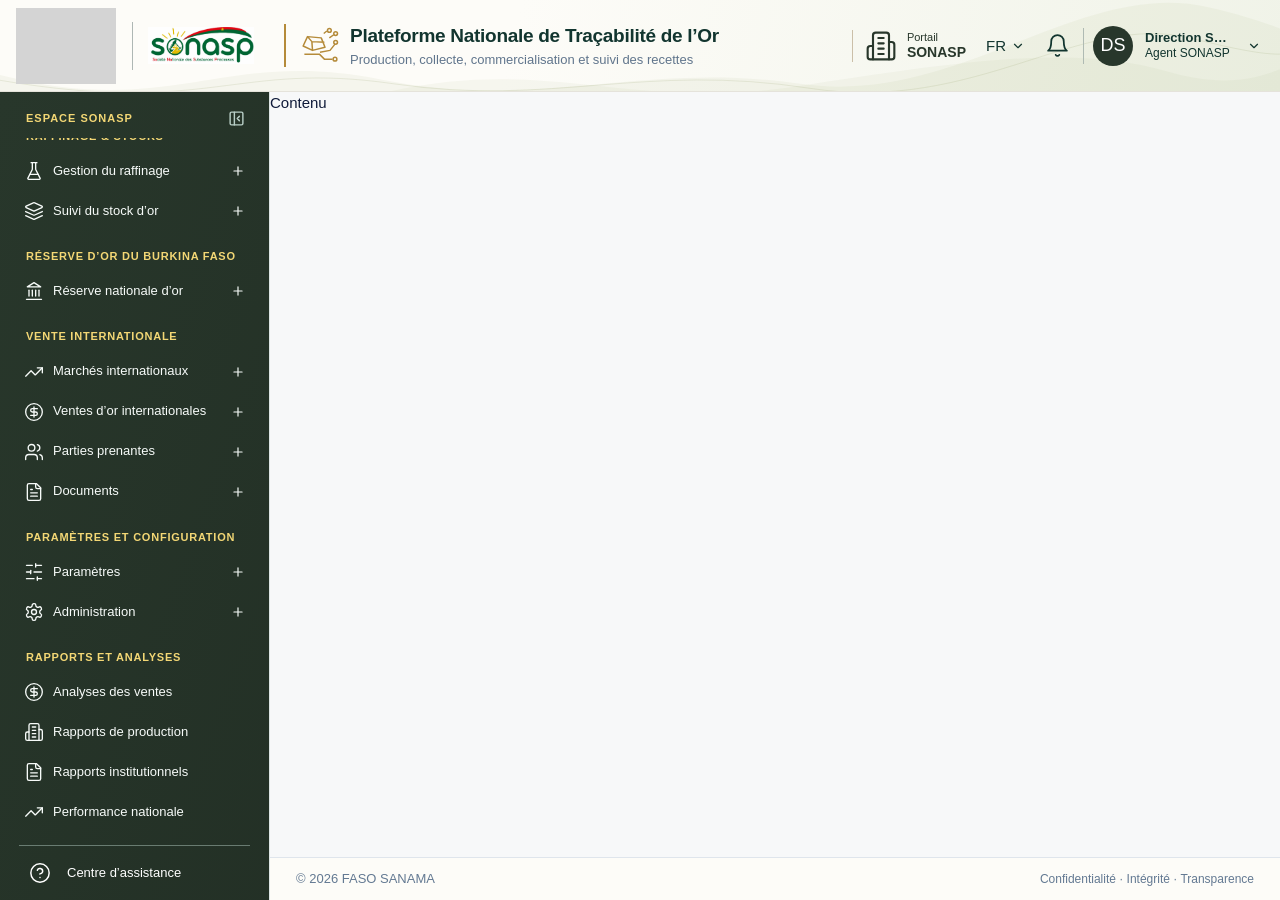
NationalDashboardLayout › marque les sous-menus d’une puce, sans icône de module
(page scrolled)
Click the button "Documents": click(134, 492) [14,472,255,512]
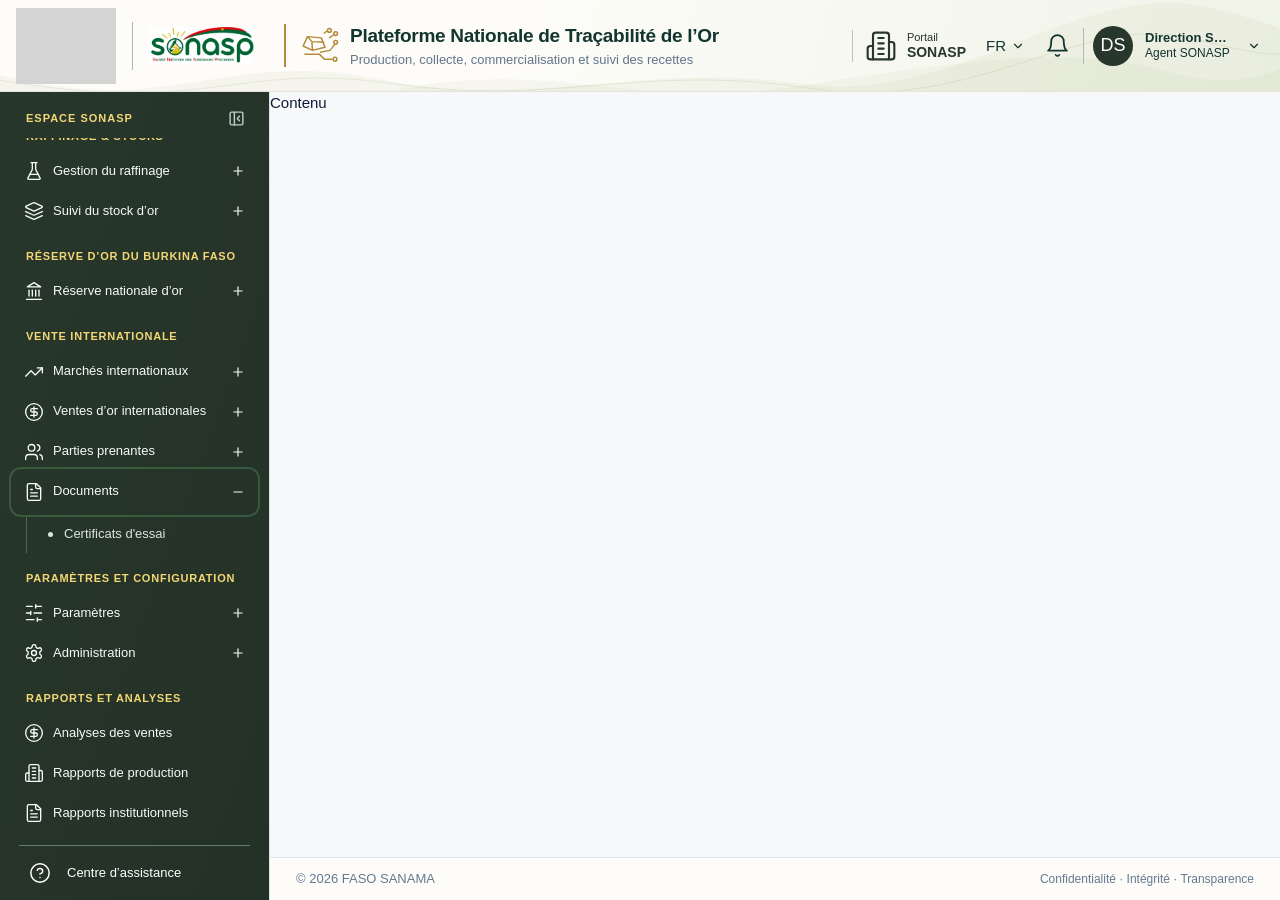
Expected: the number of icons with class "national-sidebar__puce" is 1, [48,532,53,537]
